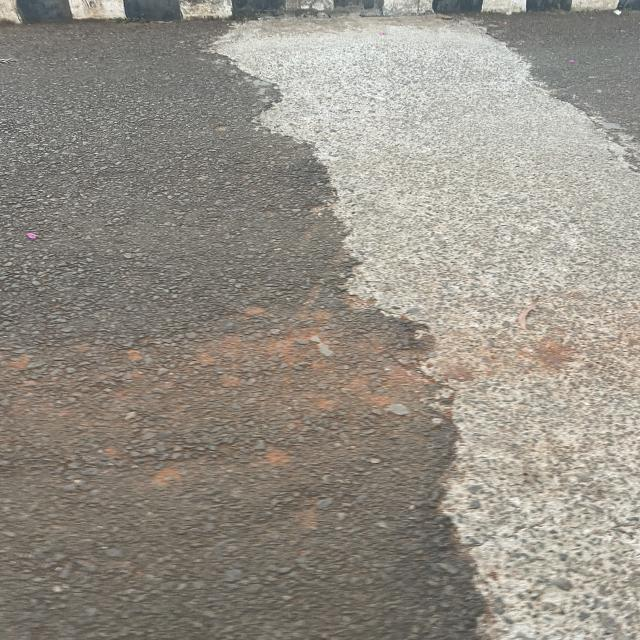D01: (160, 48, 558, 631), (453, 20, 636, 172)
